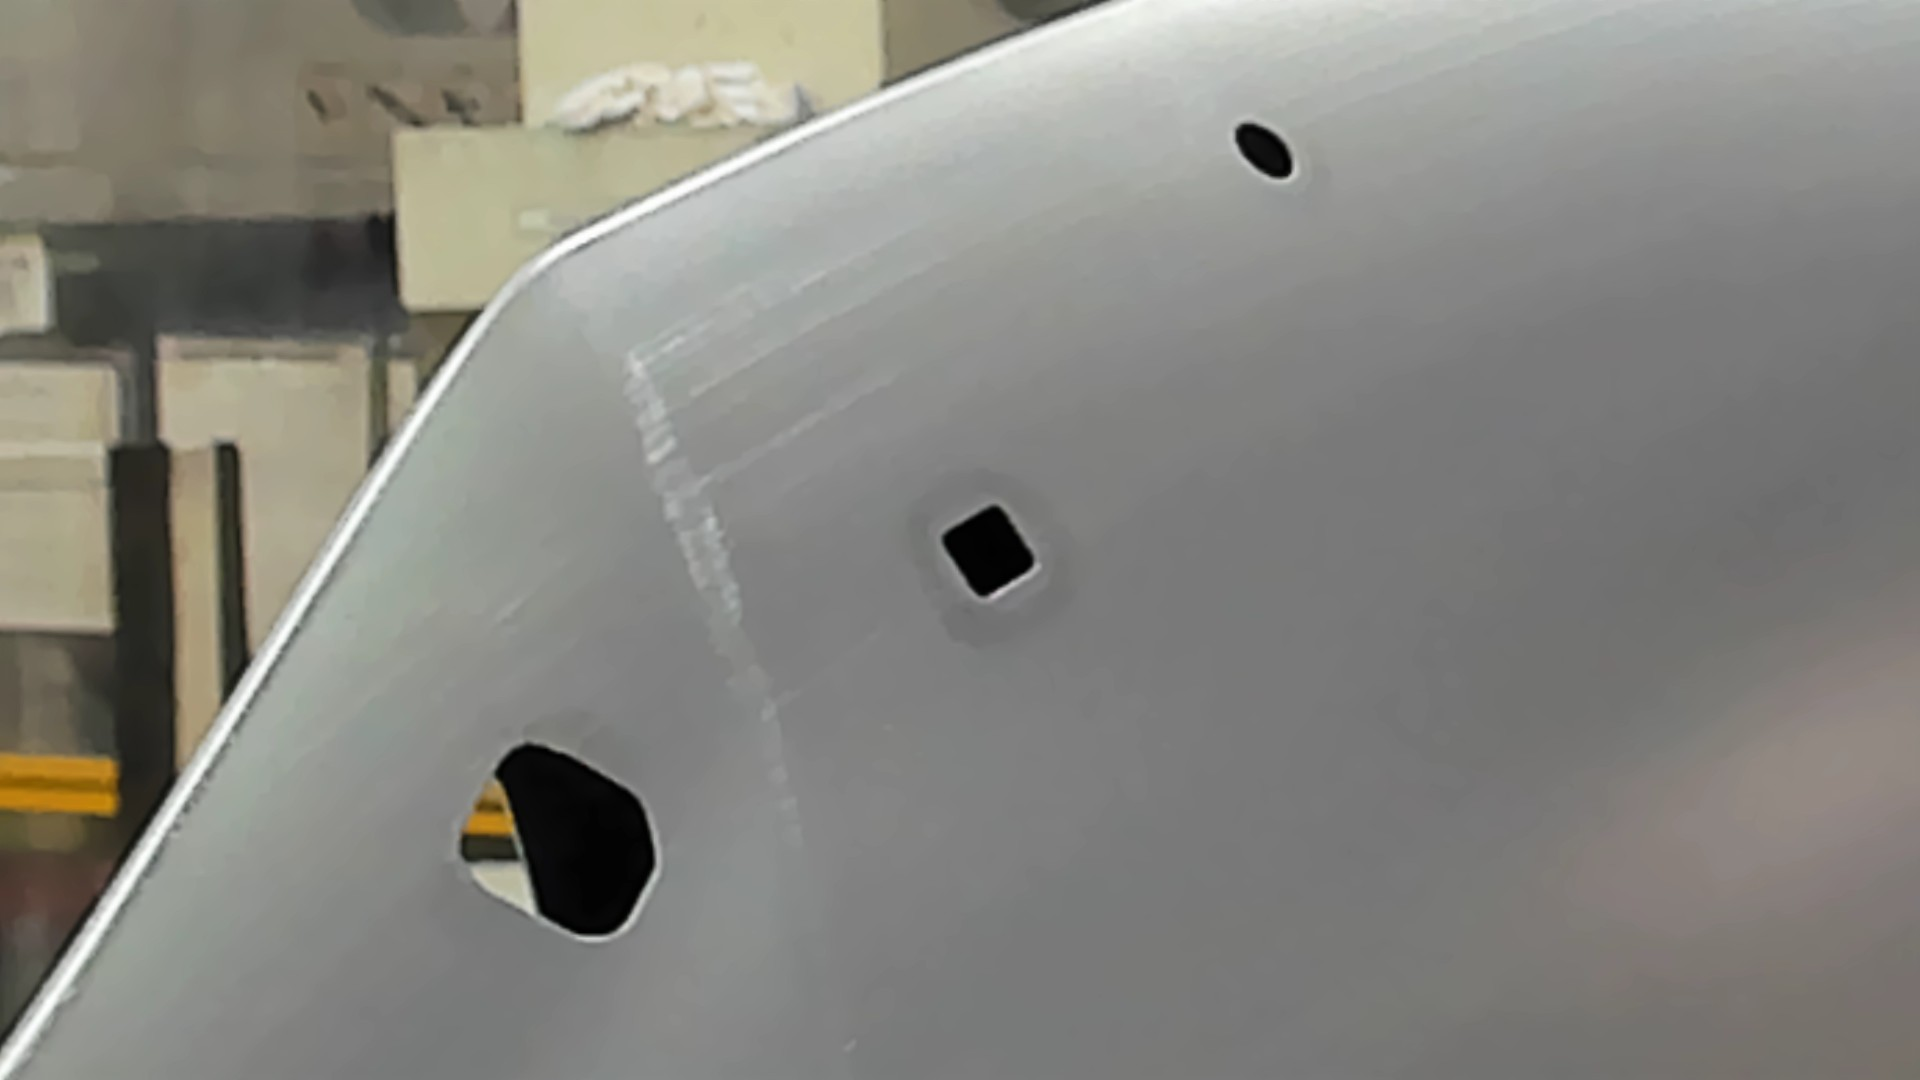capo: (1042, 189, 1920, 1075)
chico: (1229, 119, 1298, 185)
grande: (447, 736, 669, 949)
mediano: (934, 500, 1043, 604)
